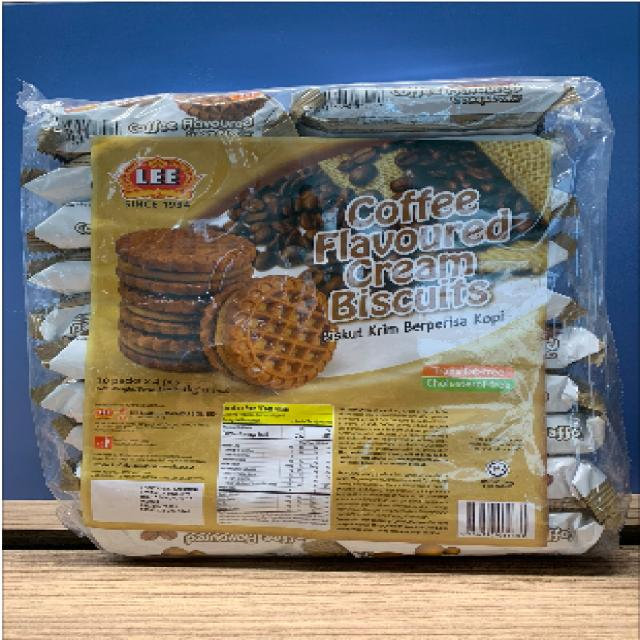object_name: (34, 97, 603, 546)
